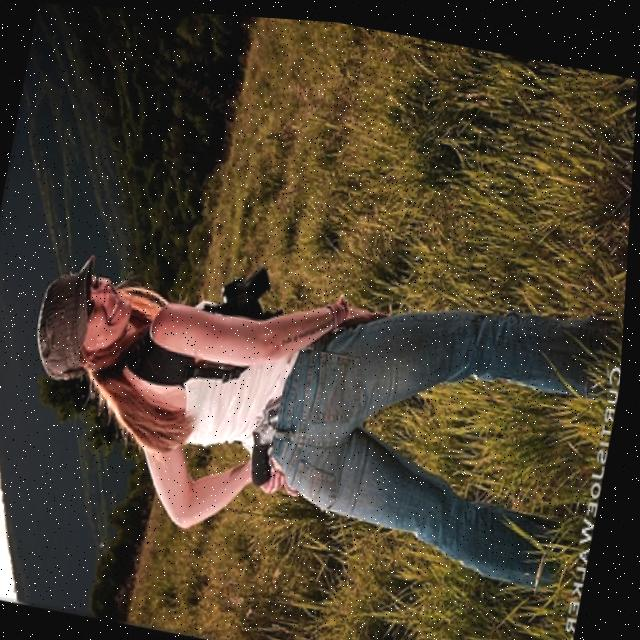pistol: (244, 389, 290, 489)
